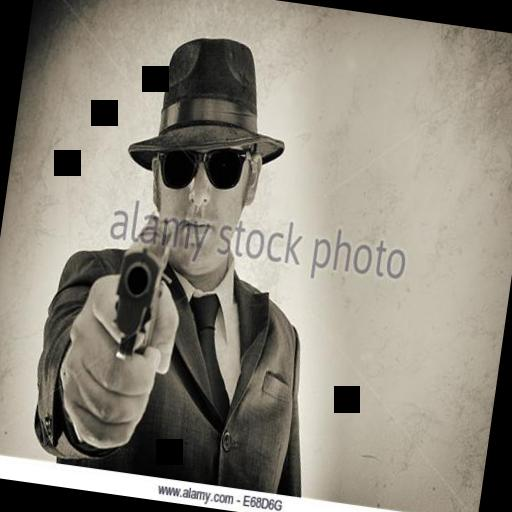Handgun: (110, 211, 176, 361)
